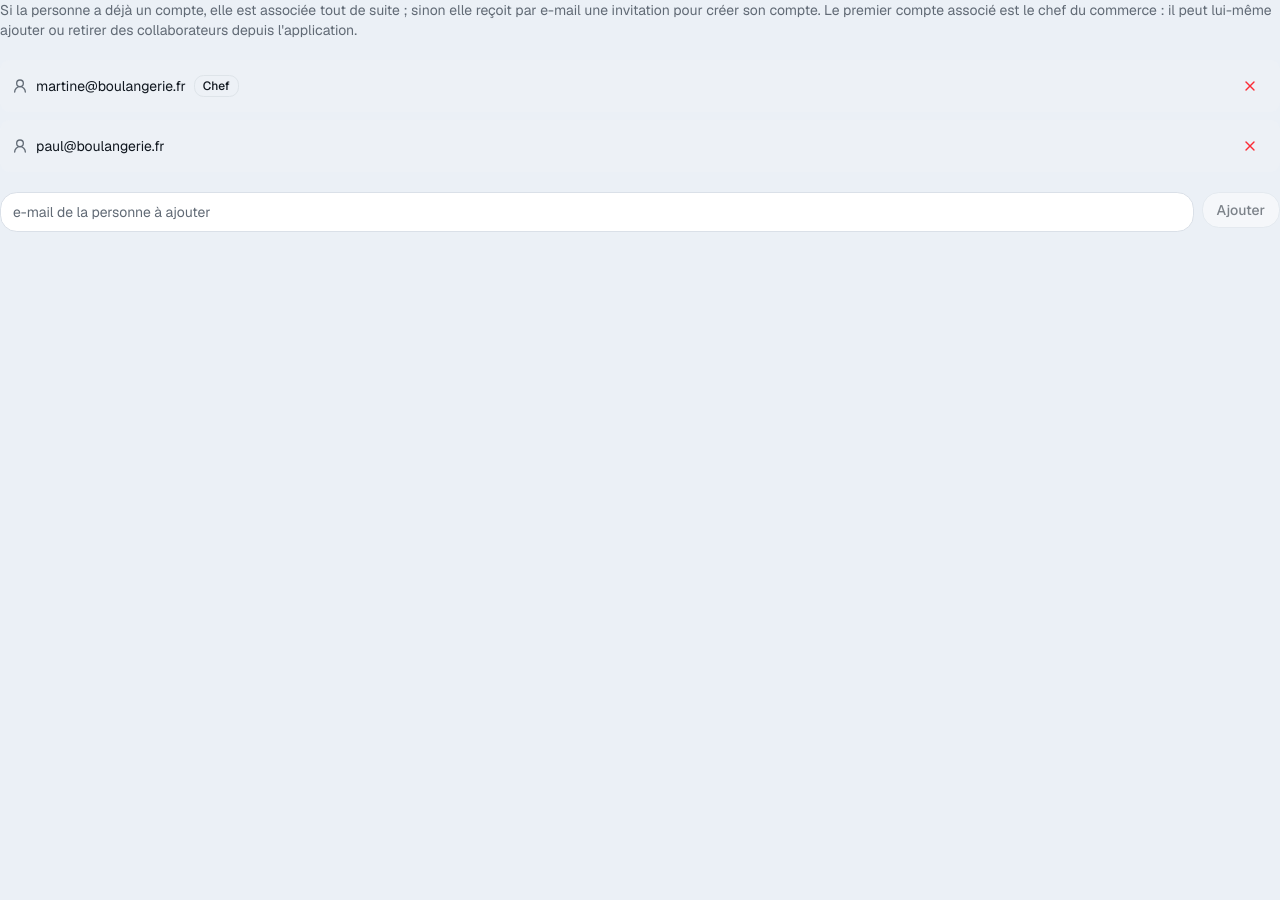
Test: CommerceManagerSection › removes nobody when the confirmation is cancelled
Click the button named "Retirer martine@boulangerie.fr" at (1250, 86), box [1232, 68, 1268, 104]
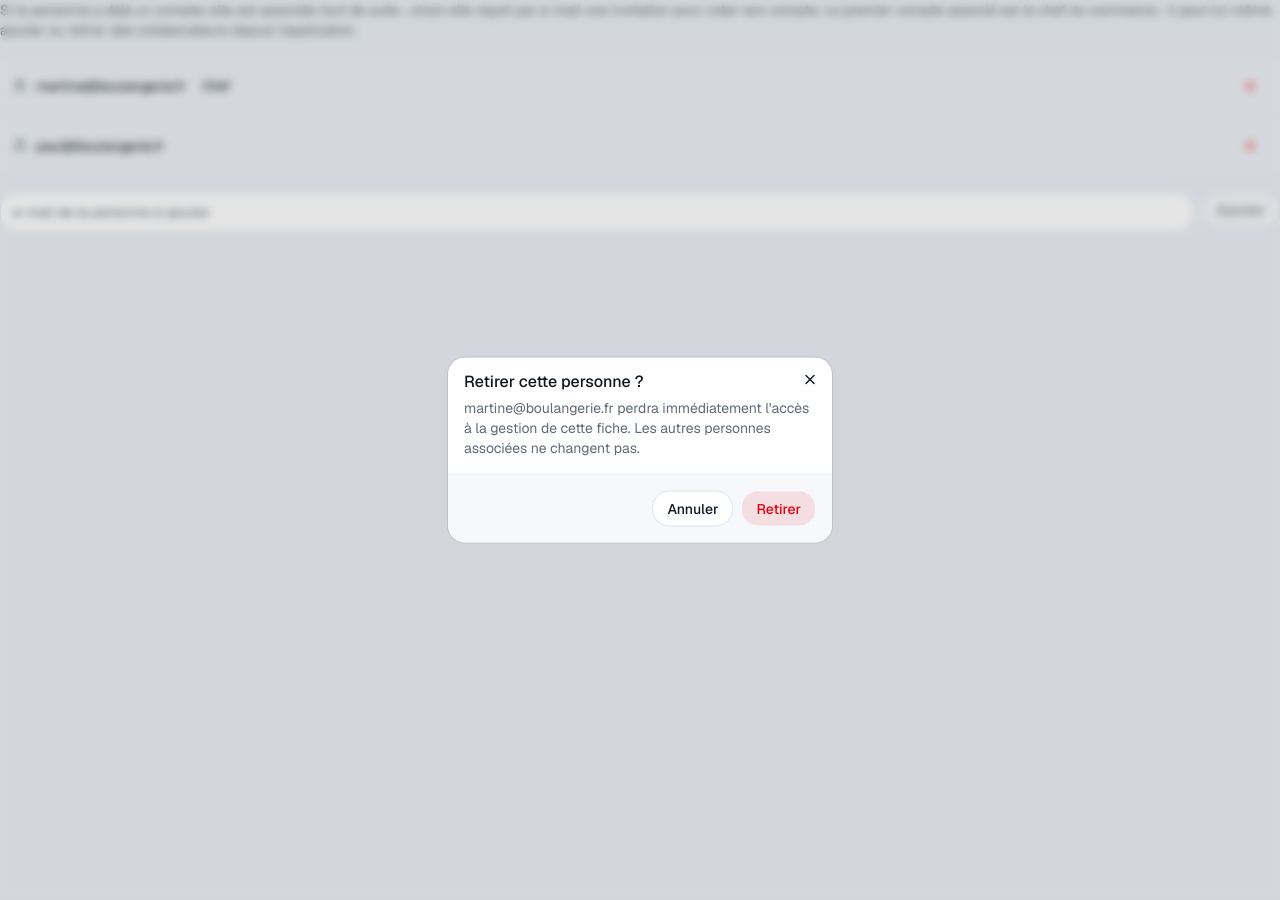
Click the button "Annuler" at (693, 508), box [652, 490, 733, 526]
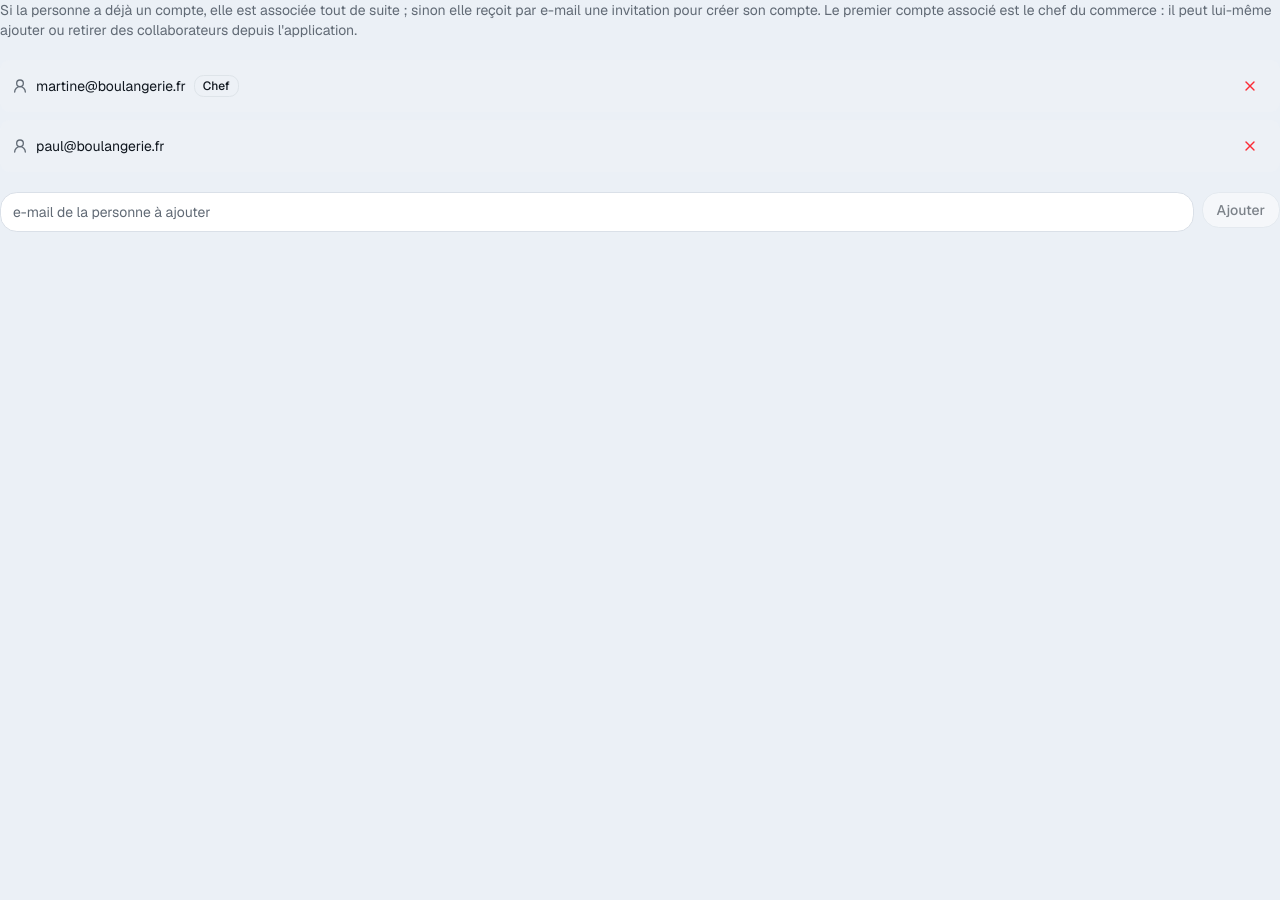
expect the heading "Retirer cette personne ?" is gone: met
